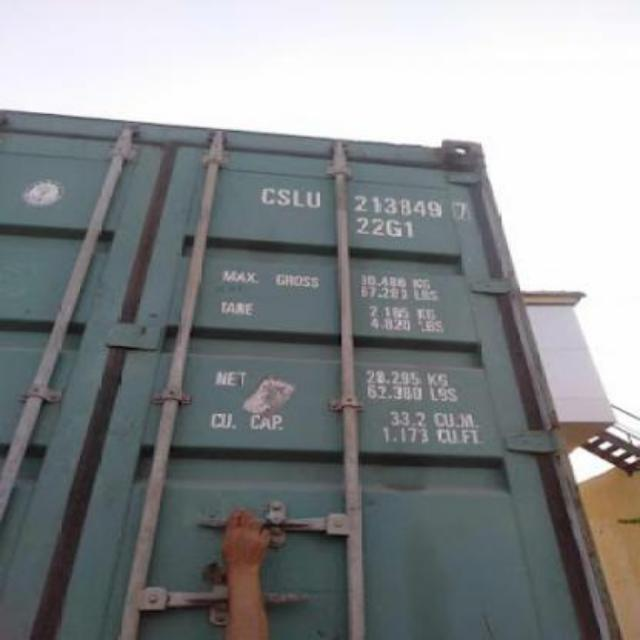1: (368, 188, 384, 216)
2: (354, 188, 368, 216)
3: (382, 190, 398, 216)
4: (414, 195, 428, 219)
7: (450, 193, 468, 223)
8: (400, 186, 412, 218)
9: (428, 195, 446, 225)
C: (260, 180, 276, 208)
L: (292, 184, 306, 210)
S: (276, 182, 292, 208)
U: (304, 186, 322, 210)
